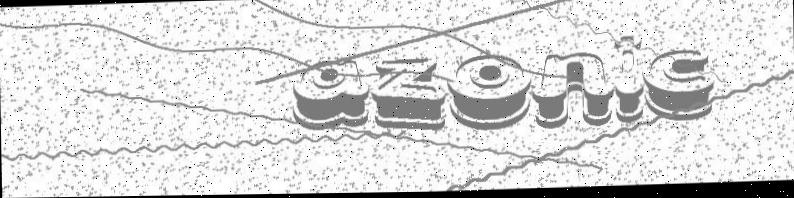a: (291, 58, 370, 131)
c: (642, 50, 712, 124)
i: (612, 36, 644, 126)
n: (531, 52, 615, 131)
o: (447, 55, 532, 134)
z: (369, 58, 448, 134)
